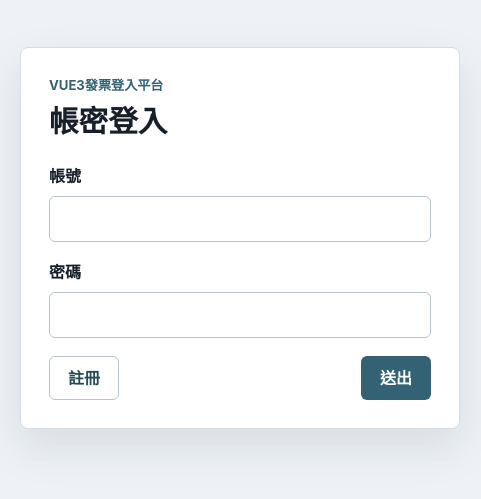
it: LoginView › 未輸入帳密時顯示錯誤訊息
Click the button "送出": (396, 378) [361, 356, 431, 400]
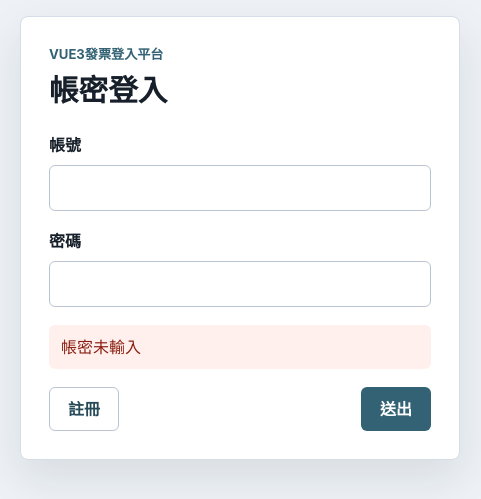
Now the message reads "帳密未輸入", box [61, 337, 141, 357]
